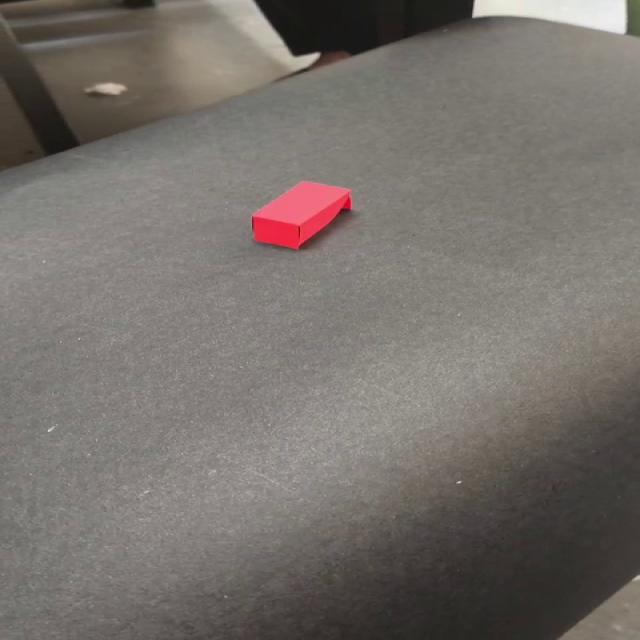red block: (249, 180, 352, 250)
